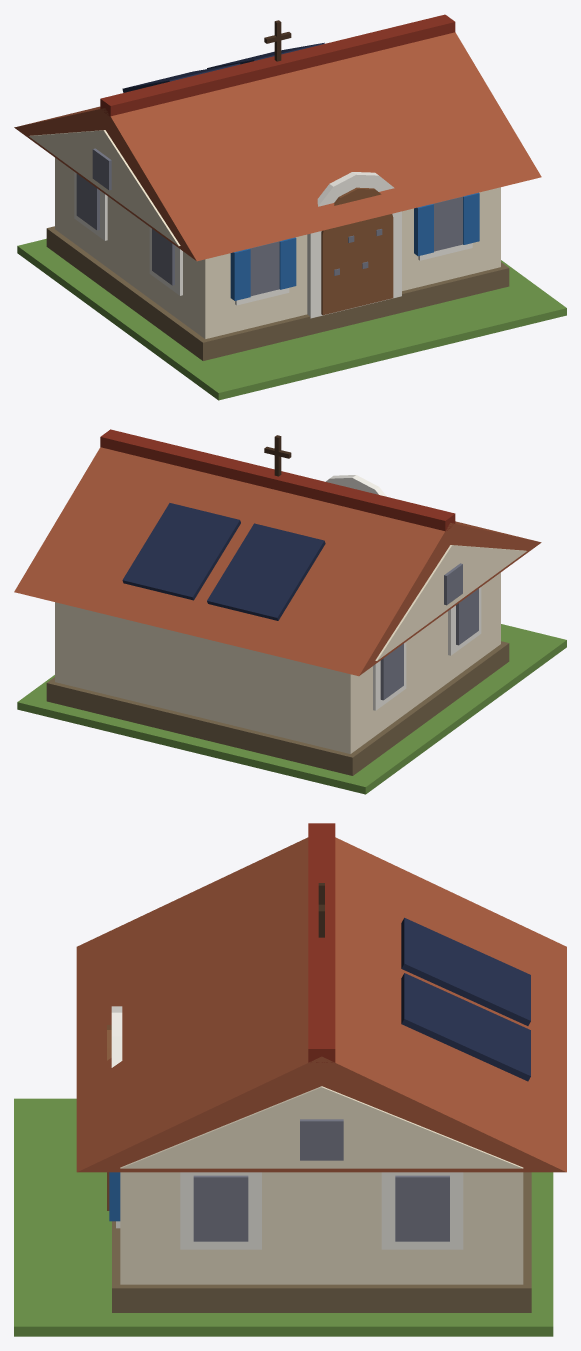
File: house-1x1-1f-andean-a-solar.glb
The picture shows the model from 3 angles, top to bottom: view 1: azimuth 30°, elevation 25°; view 2: azimuth 150°, elevation 25°; view 3: azimuth 270°, elevation 25°; orthographic projection. The views are drawn at different scales.
Parts seen in each view (by area): view 1: house-1x1-1f-andean-a-solar; view 2: house-1x1-1f-andean-a-solar; view 3: house-1x1-1f-andean-a-solar.
Boxes of the visible parts, bbox=[...] form: house-1x1-1f-andean-a-solar: bbox=[14, 14, 566, 400]; house-1x1-1f-andean-a-solar: bbox=[14, 429, 566, 794]; house-1x1-1f-andean-a-solar: bbox=[14, 823, 566, 1336].
Bounding box in the file's own units: 1.01 × 0.685 × 1.01.
Materials: 1 (1 with a texture image).
